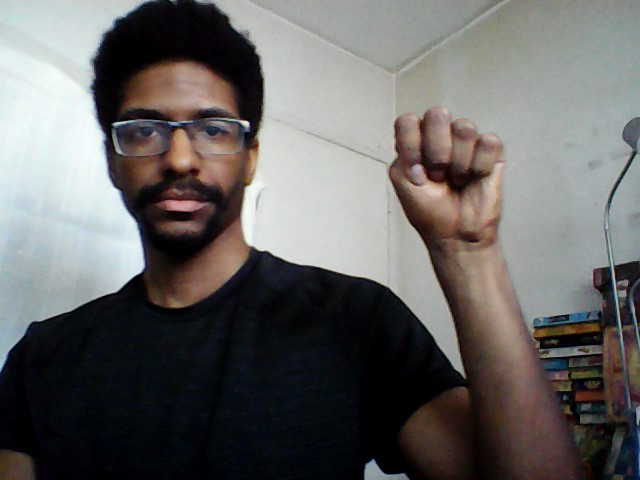m: (384, 104, 513, 249)
